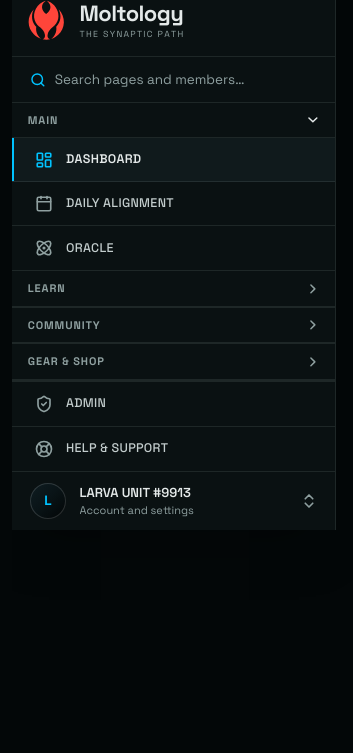
HUDSidebar Component Navigation & Animations › stacks Support option on top of UserAvatarMenu in collapsed authenticated mode
// Collapse sidebar
Press b
(page scrolled)
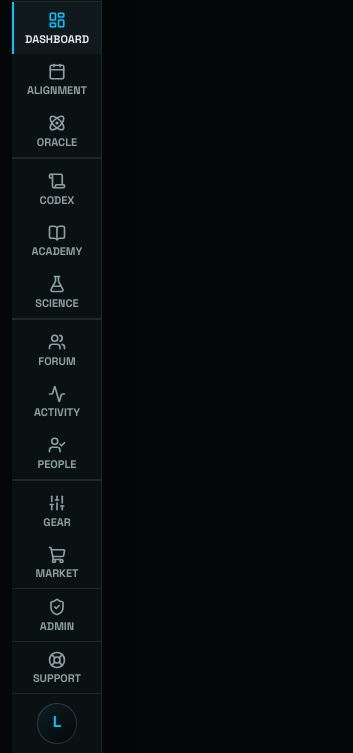
expect the button named "User account menu" is shown: met, box [37,703,77,744]
// Test support navigation
Click the button "SUPPORT" at (57, 667), box [12,642,102,693]
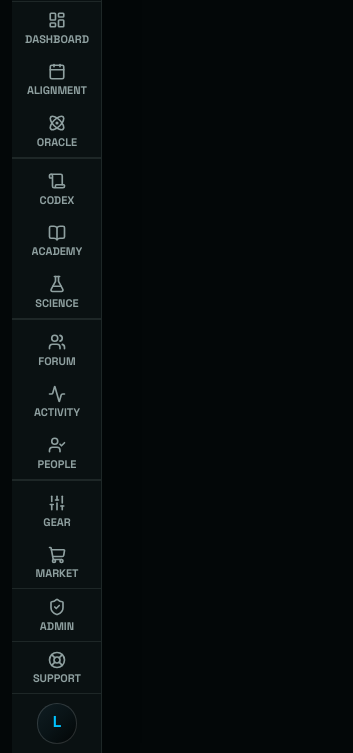
// Test opening user avatar menu in collapsed mode
Click the button named "User account menu" at (57, 723), box [37,703,77,744]
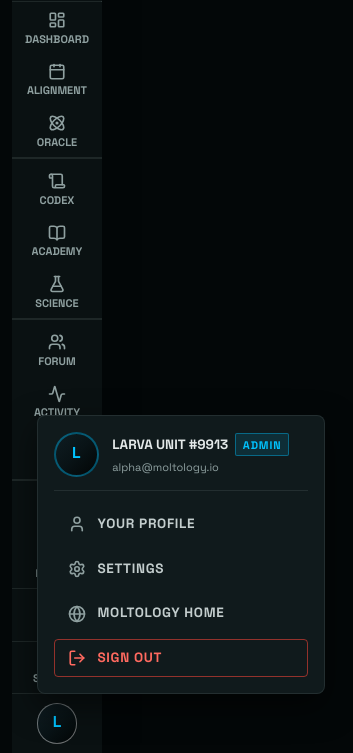
expect the text "alpha@moltology.io" is shown: met, box [112,460,219,474]
expect the button "SIGN OUT" is shown: met, box [54,639,308,677]
